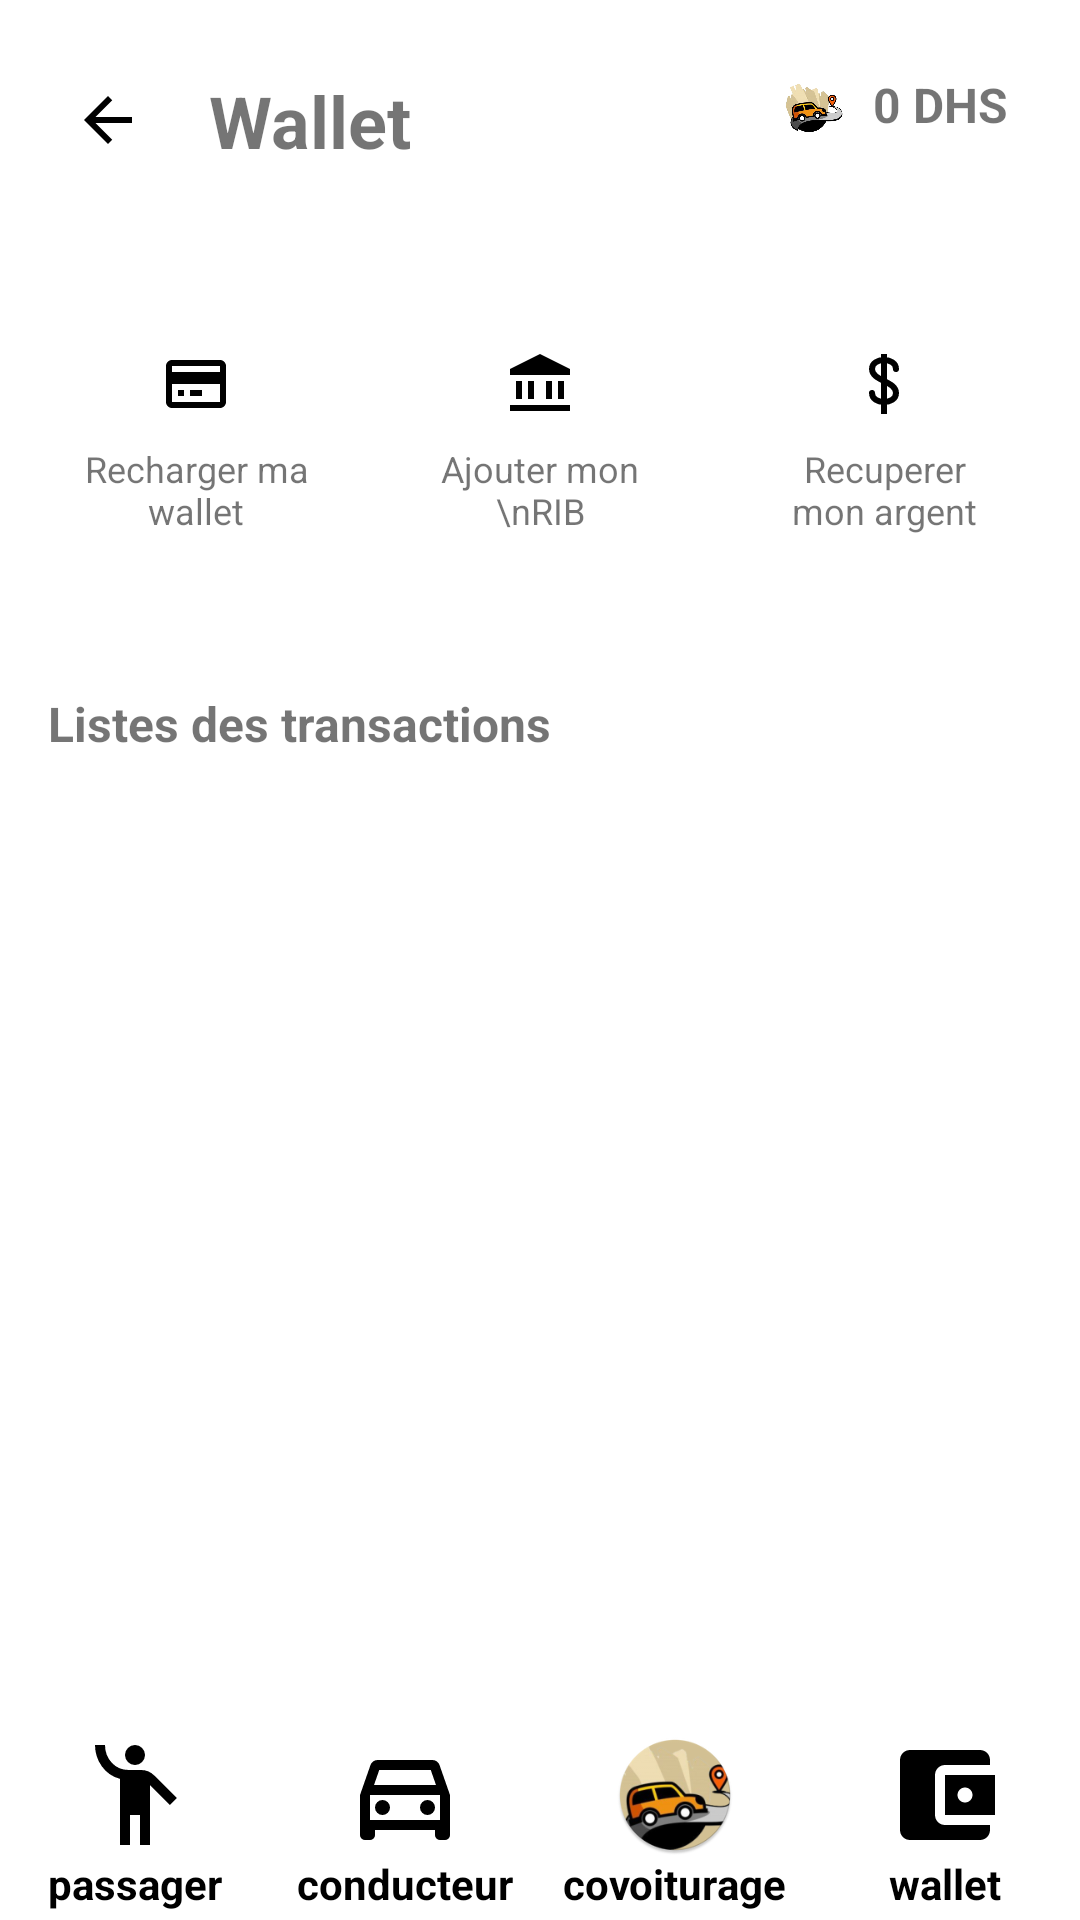

Point at icon controls on the screen. Image size 1080px×1920px, points as (x,y).
add rib: (540,382)
directions car: (405,1800)
Go back: (108,120)
recharge wallet: (196,384)
withdraw money: (884,384)
